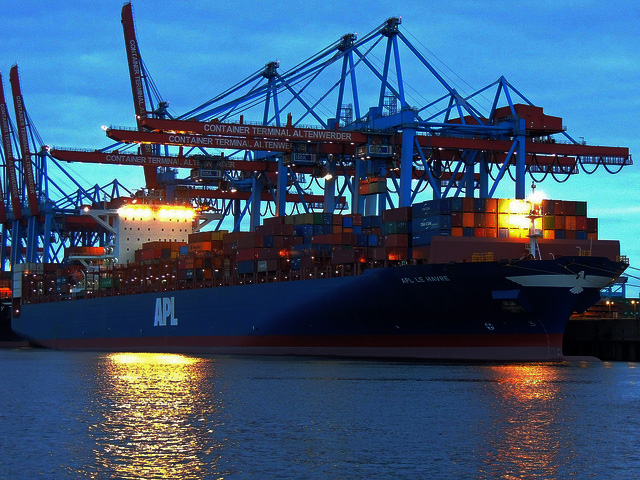container_ship: (13, 190, 629, 361)
